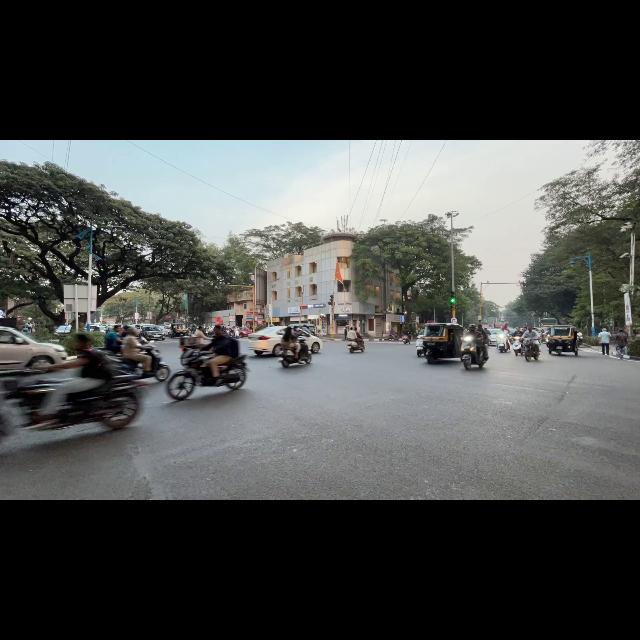car: (0, 327, 67, 370), (248, 326, 286, 355), (141, 325, 165, 339), (289, 324, 316, 335), (488, 329, 501, 345), (54, 325, 72, 336), (91, 325, 106, 333), (239, 329, 251, 337), (135, 324, 154, 329), (163, 325, 170, 336)
motorcycle: (41, 375, 148, 429), (166, 349, 246, 400), (143, 343, 170, 381), (461, 335, 486, 370), (278, 348, 298, 367), (523, 339, 539, 361), (497, 334, 509, 352), (348, 340, 364, 353), (512, 336, 522, 355), (416, 335, 424, 357), (402, 335, 410, 344), (388, 334, 399, 340), (577, 333, 582, 346)
